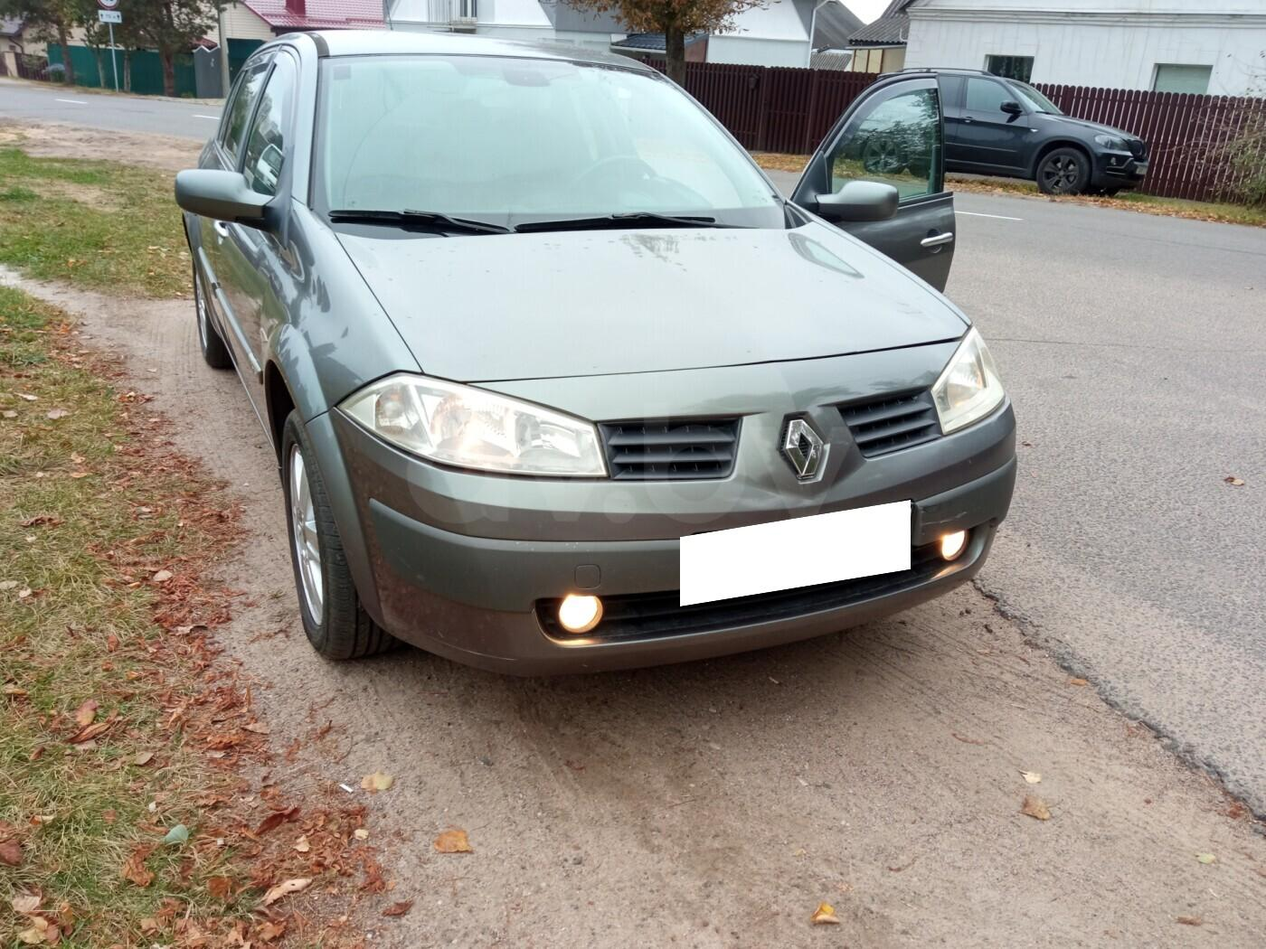Megane_2002-2006: (173, 26, 1022, 688)
